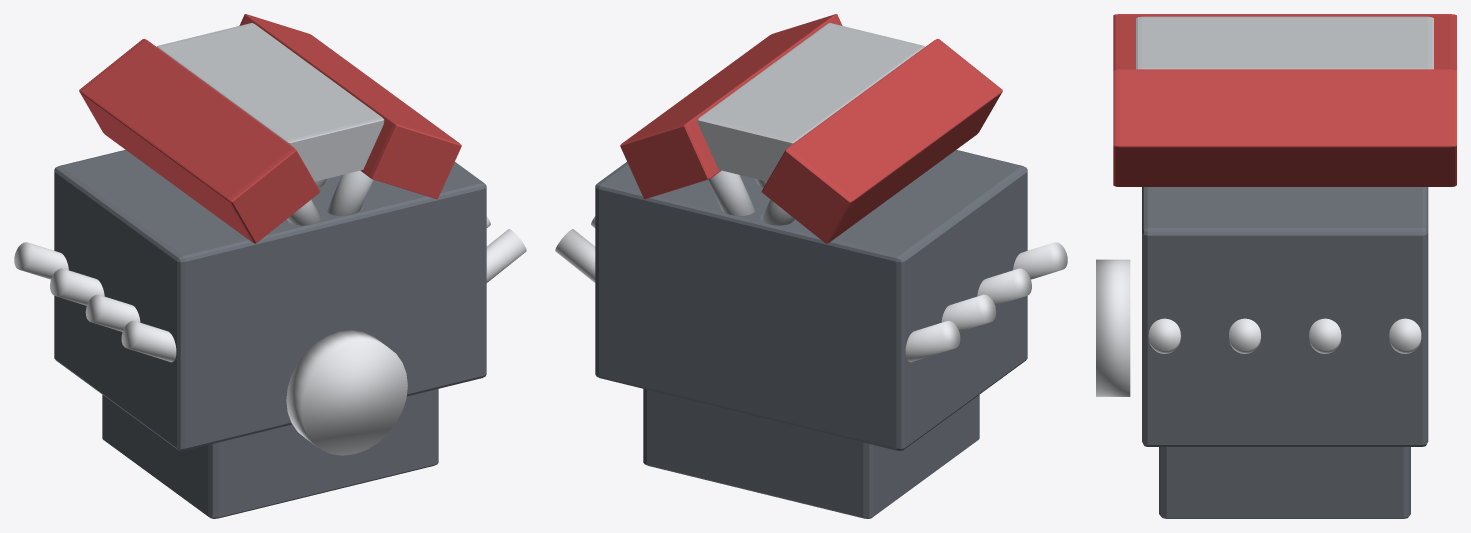
The model's file is engine_block_simplified.glb.
The picture shows the model from 3 angles, left to right: view 1: azimuth 30°, elevation 25°; view 2: azimuth 150°, elevation 25°; view 3: azimuth 270°, elevation 25°; orthographic projection. The views are drawn at different scales.
Visible parts, largest first — view 1: Cube; view 2: Cube; view 3: Cube.
Part boxes in pixels (x1,y1,x2,y2): Cube: (14,14,526,518); Cube: (555,14,1067,518); Cube: (1096,14,1456,518).
Size of the model in its own units: 0.5 by 0.4452 by 0.3498.
